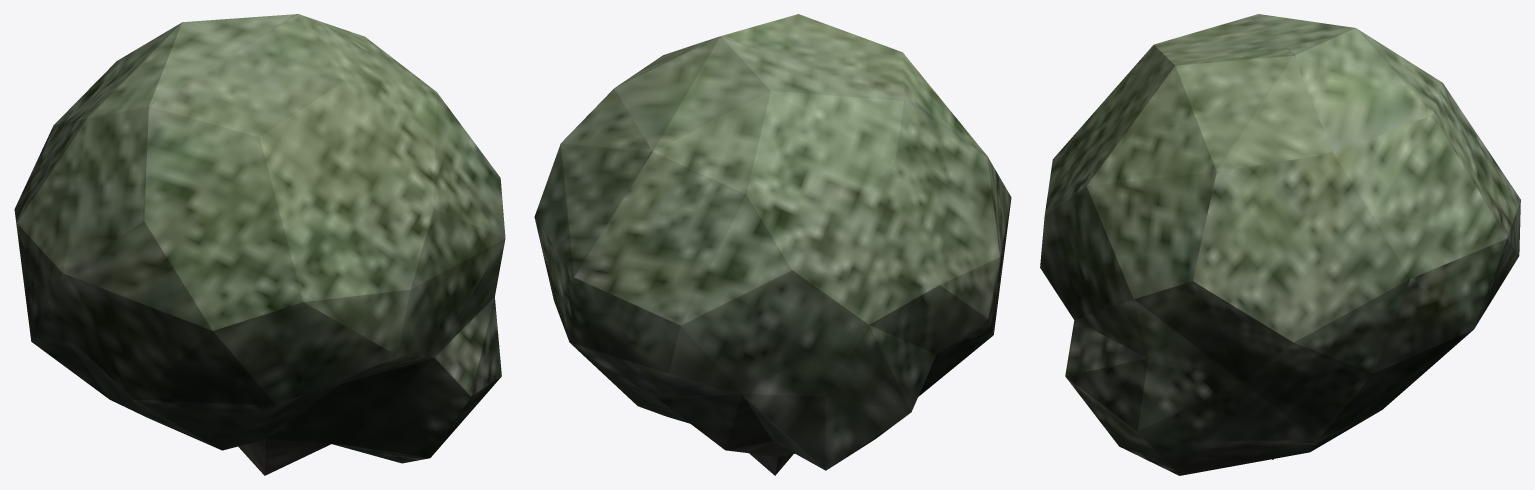
File: ga3_bush_120.glb
The picture shows the model from 3 angles, left to right: view 1: azimuth 30°, elevation 25°; view 2: azimuth 150°, elevation 25°; view 3: azimuth 270°, elevation 25°; orthographic projection. The views are drawn at different scales.
Visible parts, largest first — view 1: ga3_bush_120; view 2: ga3_bush_120; view 3: ga3_bush_120.
Part boxes in pixels (x1,y1,x2,y2): ga3_bush_120: (14, 14, 505, 475); ga3_bush_120: (534, 14, 1011, 475); ga3_bush_120: (1040, 14, 1520, 475).
Bounding box in the file's own units: 0.9588 × 0.9219 × 0.9456.
1 material, 1 textured.
